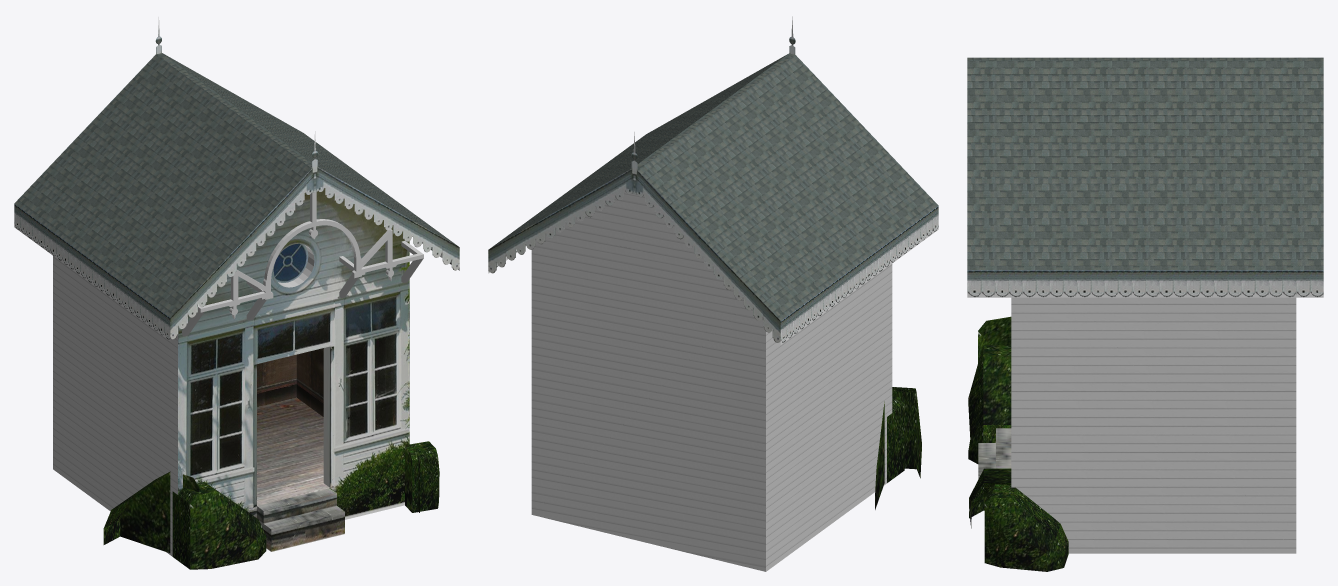
File: eu_pavilion.glb
The picture shows the model from 3 angles, left to right: view 1: azimuth 30°, elevation 25°; view 2: azimuth 150°, elevation 25°; view 3: azimuth 270°, elevation 25°; orthographic projection. The views are drawn at different scales.
Visible parts, largest first — view 1: eu_01; view 2: eu_01; view 3: eu_01.
Part boxes in pixels (x1,y1,x2,y2): eu_01: [14, 17, 459, 569]; eu_01: [488, 16, 938, 571]; eu_01: [967, 57, 1323, 571].
Size of the model in its own units: 4.56 by 5.91 by 4.
9 materials, 8 textured.
